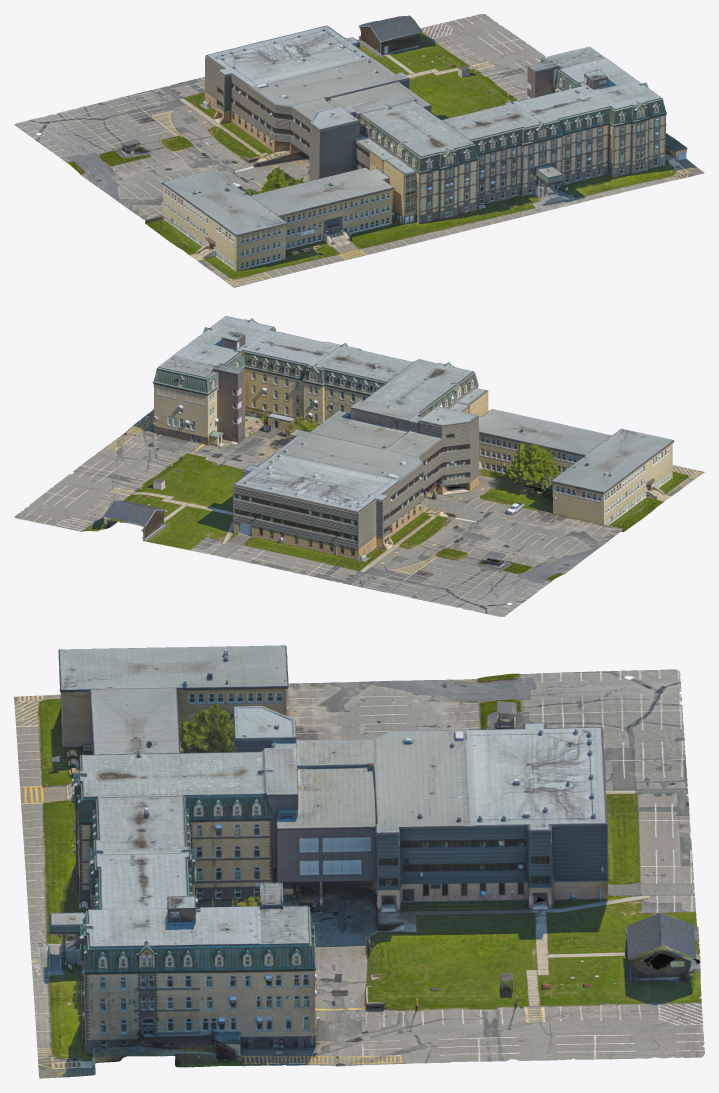
Rendered from campus.v3.glb.
3 renders of one model, top to bottom at view 1: azimuth 30°, elevation 25°; view 2: azimuth 150°, elevation 25°; view 3: azimuth 270°, elevation 25°, orthographic. The views are drawn at different scales.
Visible parts, largest first — view 1: Object_4, Object_5, Object_9, Object_2, Object_7, Object_10, Object_3, Object_8, Object_6; view 2: Object_9, Object_5, Object_4, Object_10, Object_8, Object_7, Object_3, Object_2, Object_6; view 3: Object_9, Object_5, Object_4, Object_7, Object_8, Object_3, Object_2, Object_10, Object_6.
Part boxes in pixels (box(x1,y1,x2,y2)): Object_4: box(125, 16, 647, 284); Object_5: box(30, 23, 545, 270); Object_9: box(136, 44, 526, 242); Object_2: box(30, 76, 666, 283); Object_7: box(14, 58, 704, 287); Object_10: box(29, 32, 699, 287); Object_3: box(357, 14, 676, 205); Object_8: box(217, 42, 695, 215); Object_6: box(162, 167, 282, 229); Object_9: box(82, 354, 532, 589); Object_5: box(37, 360, 679, 602); Object_4: box(103, 363, 689, 569); Object_10: box(171, 394, 703, 606); Object_8: box(106, 336, 362, 506); Object_7: box(153, 331, 704, 616); Object_3: box(14, 318, 337, 543); Object_2: box(192, 316, 688, 605); Object_6: box(520, 432, 644, 503); Object_9: box(51, 708, 696, 1063); Object_5: box(44, 651, 702, 1061); Object_4: box(15, 646, 697, 1029); Object_7: box(14, 669, 686, 1078); Object_8: box(32, 730, 604, 1077); Object_3: box(51, 845, 704, 1067); Object_2: box(14, 670, 639, 1051); Object_10: box(14, 646, 685, 1076); Object_6: box(59, 645, 288, 751).
Size of the model in its own units: 141 by 22.28 by 109.
Materials: 2 (2 with a texture image).
